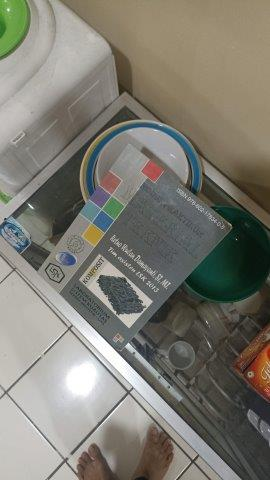kertas: (35, 145, 229, 356)
